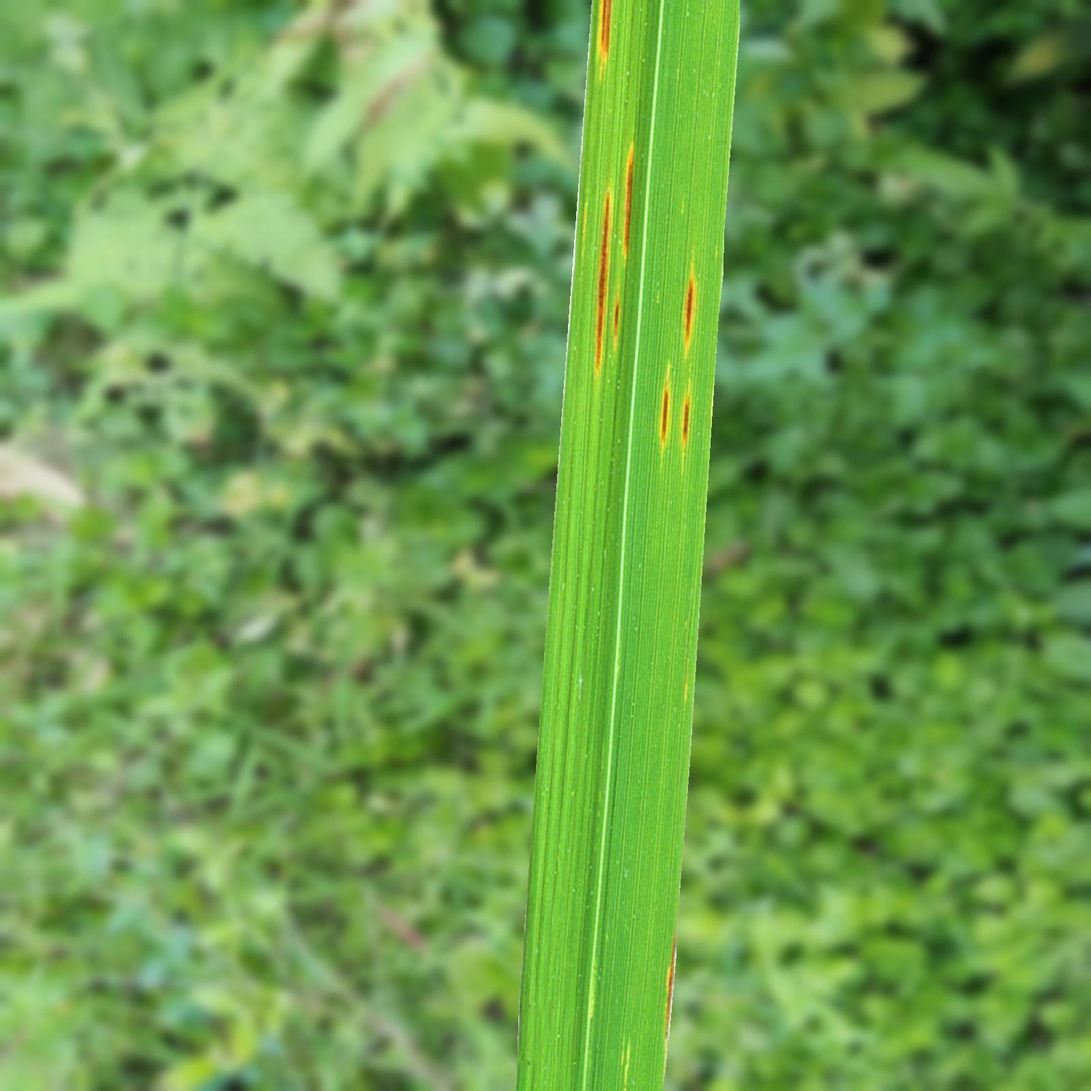LEAF: (516, 0, 739, 1090)
NBS: (596, 189, 611, 372), (665, 929, 676, 1039), (684, 270, 696, 354), (624, 149, 633, 249), (599, 0, 612, 66), (661, 383, 668, 442), (683, 395, 689, 443), (614, 292, 619, 348)
